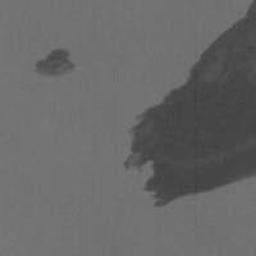Oil spot: (123, 0, 256, 207), (32, 46, 77, 79)
